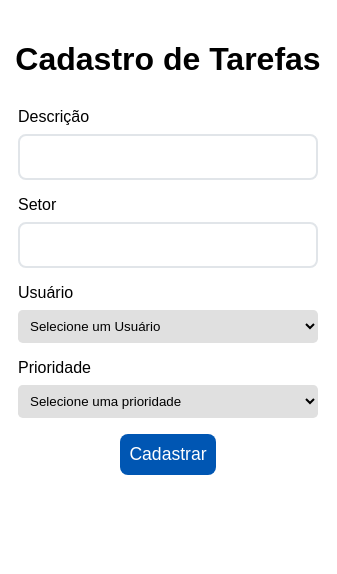
Test: Cadastro de Tarefas › deve exibir erros ao preencher apenas o campo setor
The image size is (337, 574).
Type "Marketing" into the field labelled "Setor" at (168, 245), box [18,222,318,268]
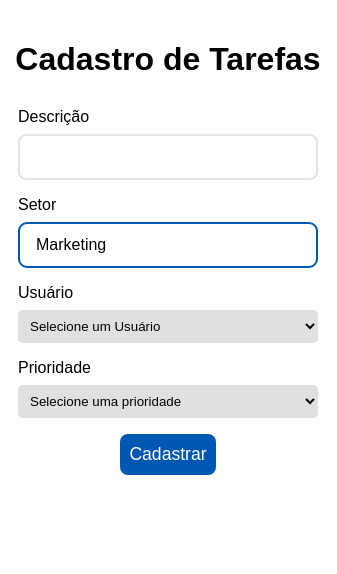
Click the button "Cadastrar" at (168, 454), box [120,434,216,475]
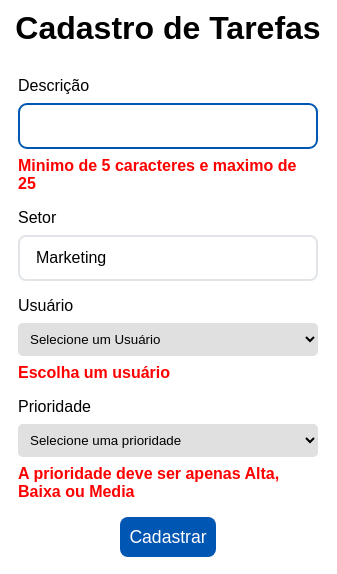
Now the text "Minimo de 5 caracteres e maximo de 25" is shown, box [18,157,318,193]
Now the text "Escolha um usuário" is shown, box [18,364,170,381]
Now the text "A prioridade deve ser apenas Alta, Baixa ou Media" is shown, box [18,465,318,501]
